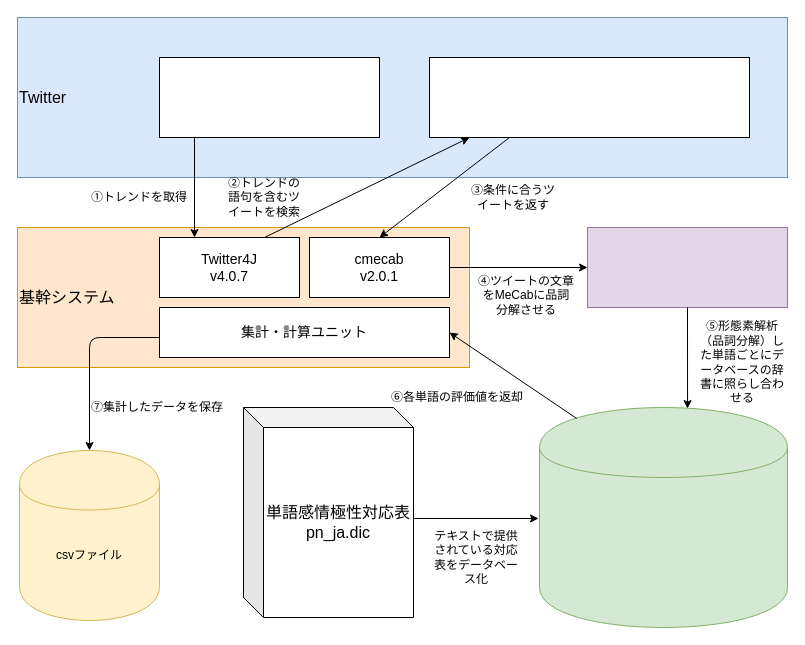
The diagram is 805 pixels wide and 645 high, and some of its shapes have lost their labels. The centre of each missing label's shape, as x and y in pixels:
"MeCab v0.996 （品詞分解ソフト）" belongs at point (687, 267).
"トレンド" belongs at point (269, 97).
"単語感情極性対応表 データベース（SQLite3）" belongs at point (663, 517).
"各ツイート情報" belongs at point (589, 97).
